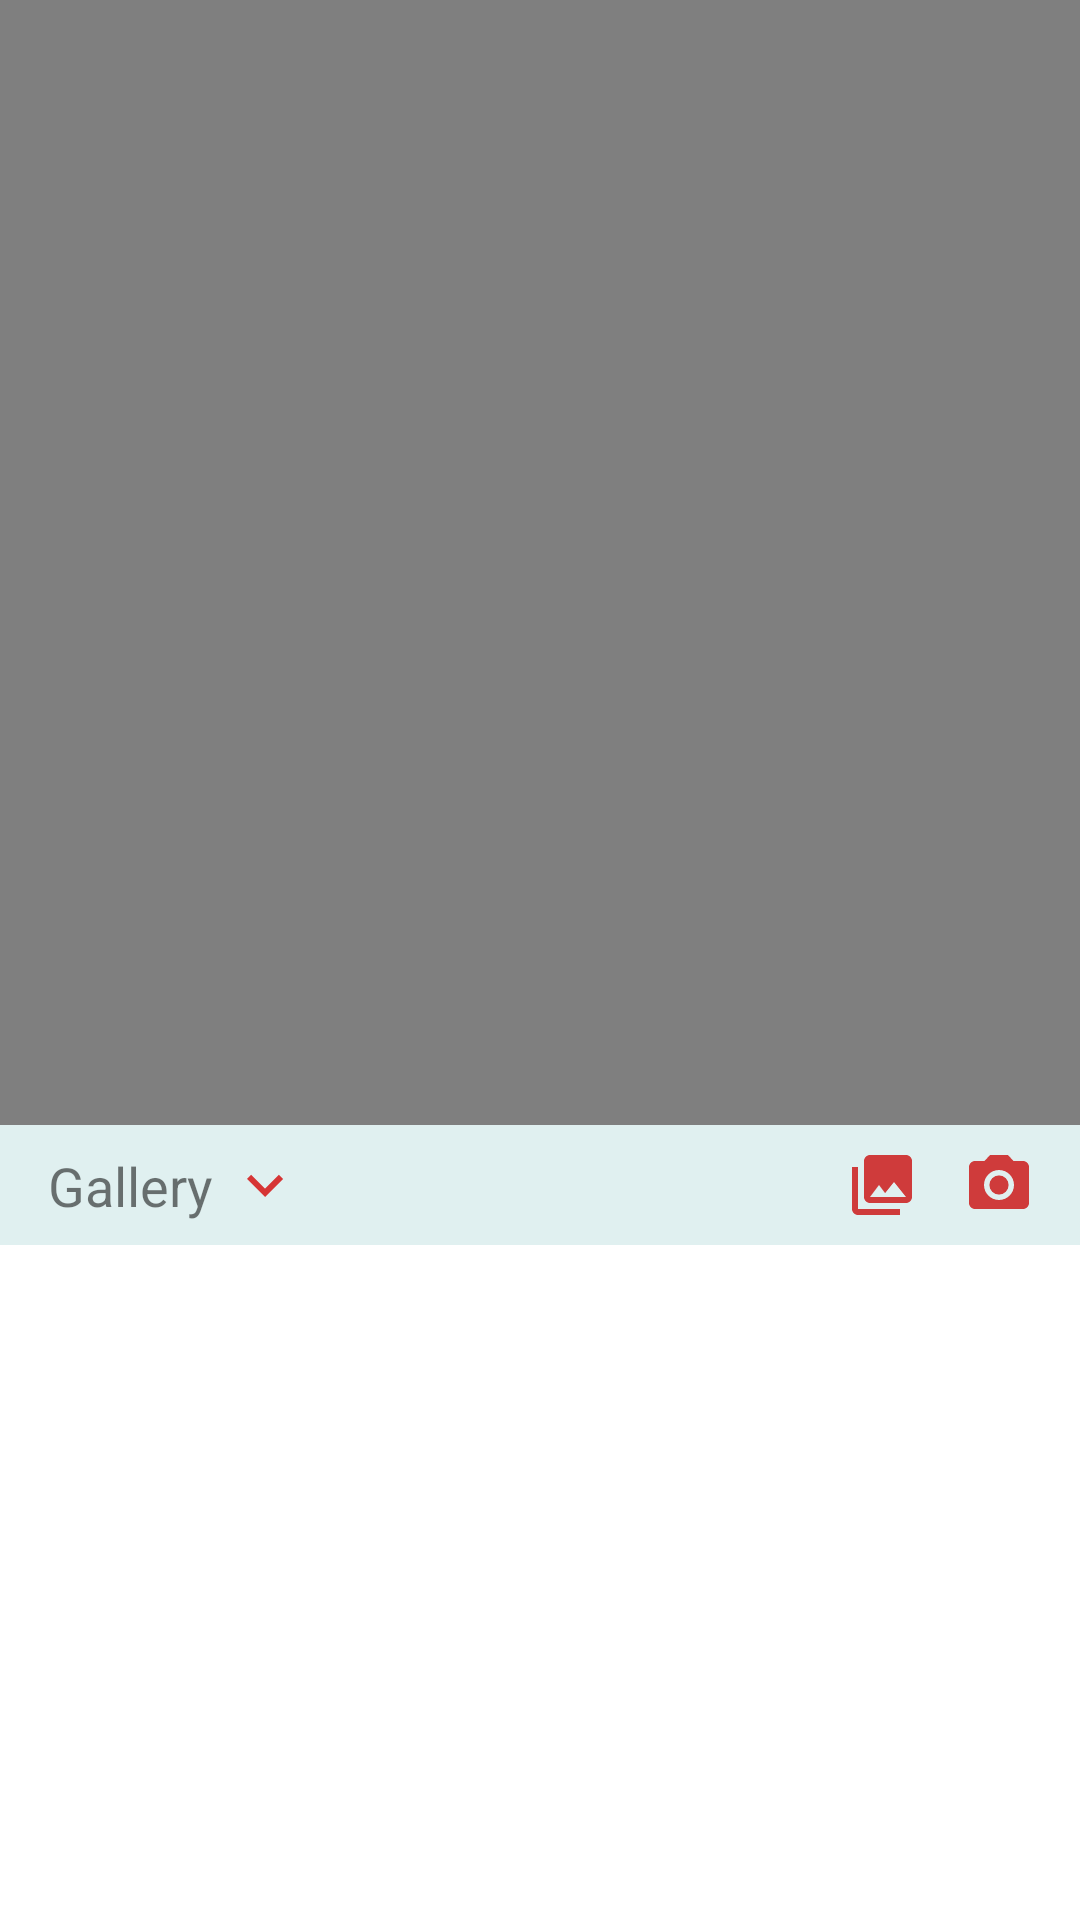

Screen size 1080px x 1920px. Icon name, then its center in pixels as (x,y):
camera: (999,1182)
keyboard arrow down: (265,1186)
photo library: (882,1185)
